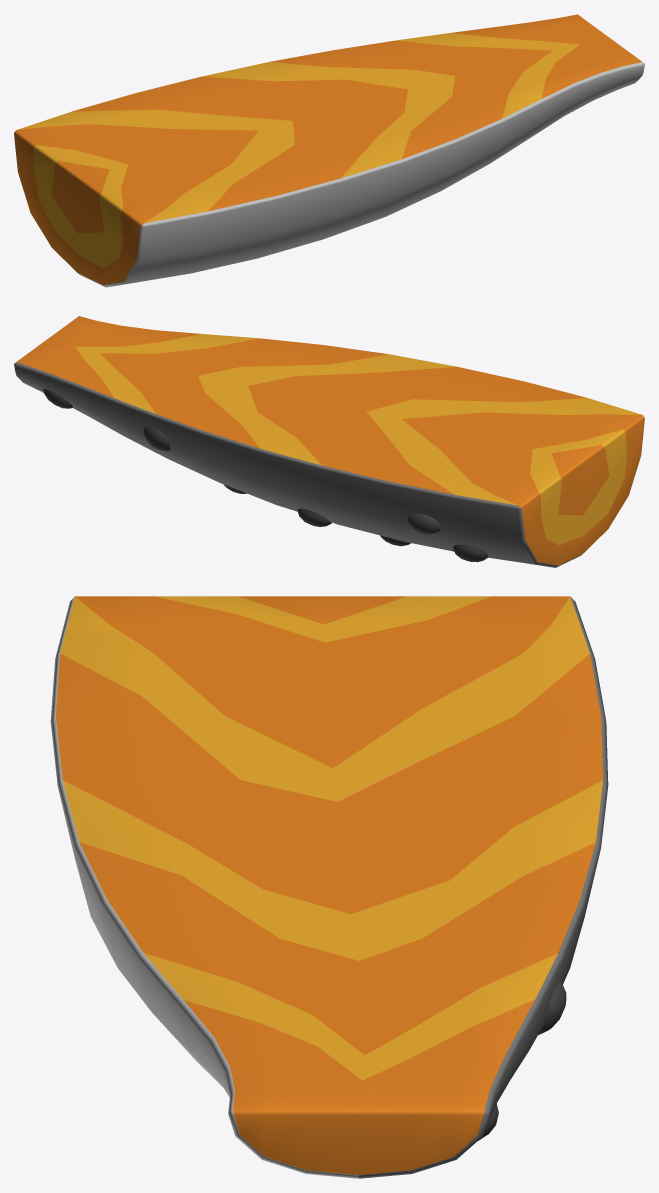
Rendered from Salmon_1_Fillet_1.fbx.
3 renders of one model, top to bottom at view 1: azimuth 30°, elevation 25°; view 2: azimuth 150°, elevation 25°; view 3: azimuth 270°, elevation 25°, orthographic. The views are drawn at different scales.
Parts seen in each view (by area): view 1: Salmon_1_Fillet_1; view 2: Salmon_1_Fillet_1; view 3: Salmon_1_Fillet_1.
Part boxes in pixels (x1,y1,x2,y2): Salmon_1_Fillet_1: (14,14,644,287); Salmon_1_Fillet_1: (14,316,644,567); Salmon_1_Fillet_1: (50,596,608,1178).
Bounding box in the file's own units: 58.27 × 10.48 × 26.59.
